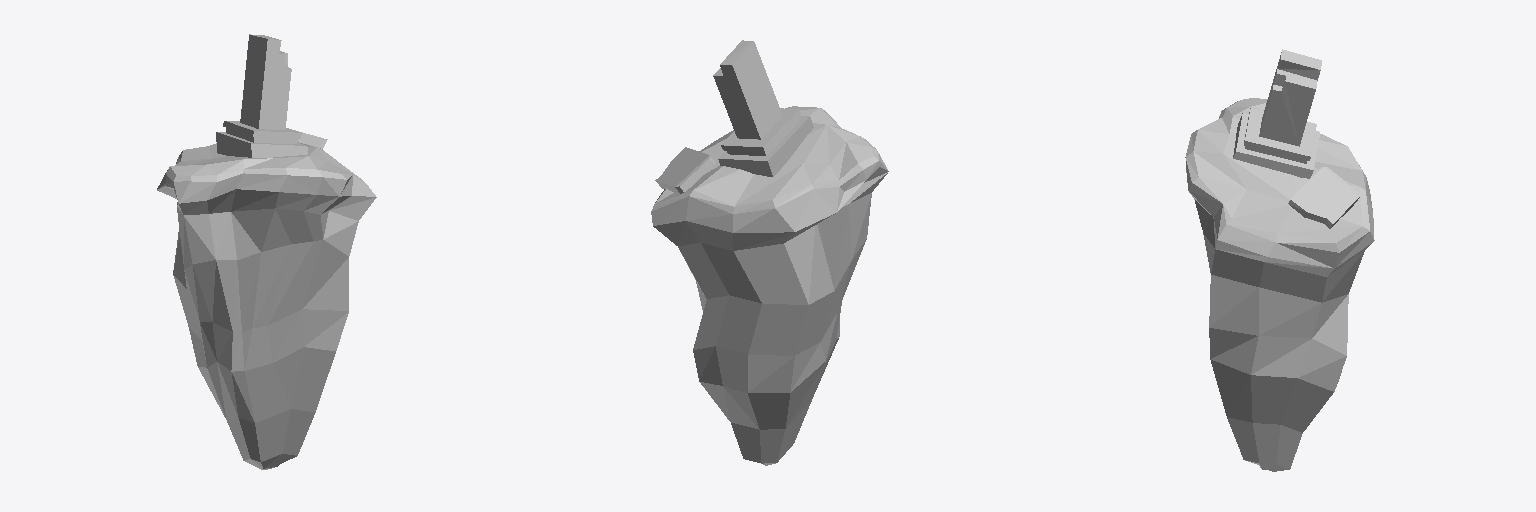
The model's file is platformEmptyPillar.obj.
3 views of the same model, side by side, from view 1: azimuth 30°, elevation 25°; view 2: azimuth 150°, elevation 25°; view 3: azimuth 270°, elevation 25° (orthographic).
Parts seen in each view (by area): view 1: platformEmptyPillar PlatfprmsAndSpikes; view 2: platformEmptyPillar PlatfprmsAndSpikes; view 3: platformEmptyPillar PlatfprmsAndSpikes.
Part boxes in pixels (left/top/right/bottom): platformEmptyPillar PlatfprmsAndSpikes: left=157, top=34, right=376, bottom=469; platformEmptyPillar PlatfprmsAndSpikes: left=651, top=40, right=888, bottom=465; platformEmptyPillar PlatfprmsAndSpikes: left=1185, top=49, right=1374, bottom=471.
Size of the model in its own units: 7.05 by 14.47 by 5.82.